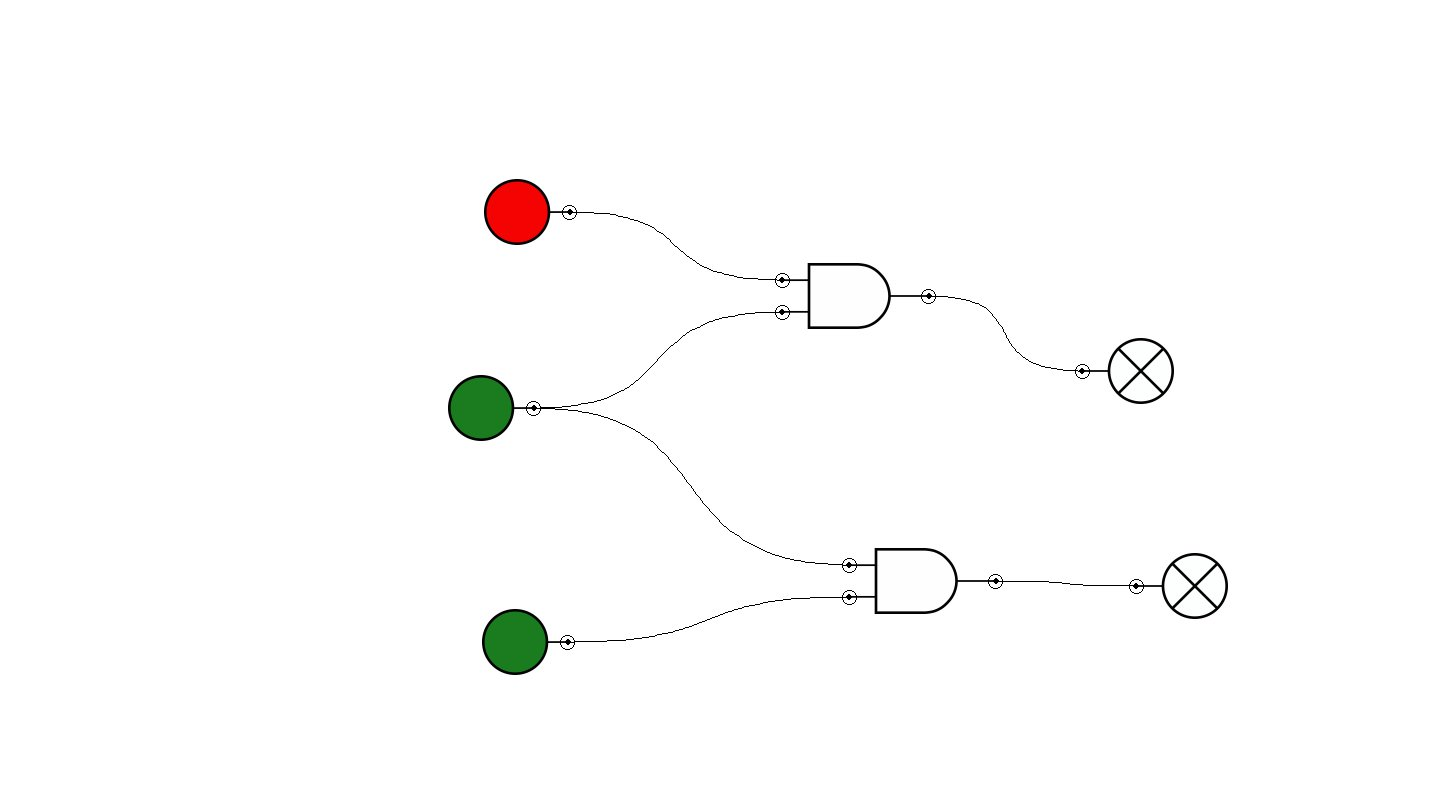and: (775, 263, 936, 329), (842, 548, 1003, 614)
bulb: (1075, 338, 1174, 404), (1129, 553, 1228, 619)
switch_False: (484, 179, 577, 245)
switch_True: (482, 609, 575, 675), (448, 375, 541, 441)
